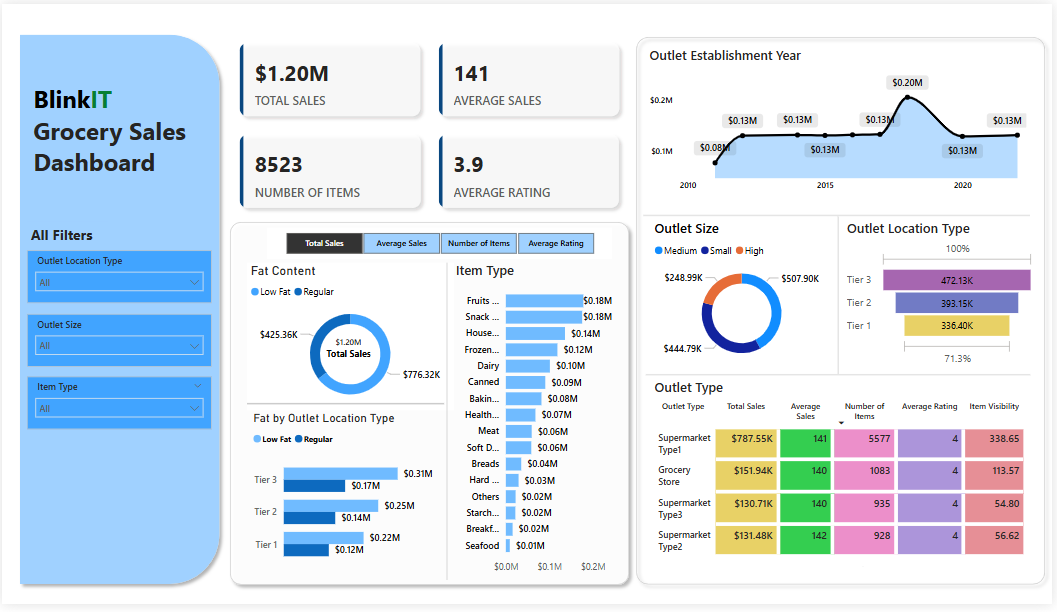

The dashboard page shown, as its layout file describes it:
{"tool":"powerbi","page":{"name":"Page 1","canvas":[1400,800],"ordinal":0},"visuals":[{"type":"shape","box":[15.7,31.4,284.3,751.4],"z":0},{"type":"textbox","box":[36.7,81.7,246.7,165],"z":1000},{"type":"cardVisual","fields":{"Data":["BlinkIT Grocery Data.Total Sales","BlinkIT Grocery Data.Average Sales","BlinkIT Grocery Data.Number of Items","BlinkIT Grocery Data.Average Rating"]},"box":[300,35,540,255],"z":2000},{"type":"shape","box":[295,281.7,550,501.7],"z":3000},{"type":"donutChart","title":"Fat Content","fields":{"Y":["BlinkIT Grocery Data.Total Sales"],"Category":["BlinkIT Grocery Data.Item Fat Content"]},"box":[327.1,344.3,275.7,197.1],"z":4000},{"type":"slicer","fields":{"Values":["Metrics.Metrics"]},"box":[353.3,298.3,460,41.7],"z":5000},{"type":"cardVisual","fields":{"Data":["BlinkIT Grocery Data.Total Sales"]},"box":[385.7,420,154.3,78.6],"z":6000},{"type":"clusteredBarChart","title":"Fat by Outlet Location Type","fields":{"Y":["BlinkIT Grocery Data.Total Sales"],"Category":["BlinkIT Grocery Data.Outlet Location Type"],"Series":["BlinkIT Grocery Data.Item Fat Content"]},"box":[330,542.9,250,217.1],"z":7000},{"type":"shape","box":[327.1,404.3,262.9,255.7],"z":8000},{"type":"barChart","title":"Item Type","fields":{"Y":["BlinkIT Grocery Data.Total Sales"],"Category":["BlinkIT Grocery Data.Item Type"]},"box":[600,342.9,235.7,425.7],"z":10000},{"type":"lineChart","title":"Outlet Establishment Year","fields":{"Category":["BlinkIT Grocery Data.Outlet Establishment Year"],"Y":["BlinkIT Grocery Data.Total Sales"]},"box":[858.6,57.1,512.9,202.9],"z":11000},{"type":"donutChart","title":"Outlet Size","fields":{"Y":["BlinkIT Grocery Data.Total Sales"],"Category":["BlinkIT Grocery Data.Outlet Size"]},"box":[865.7,287.1,242.9,201.4],"z":12000},{"type":"shape","box":[858.6,390,512.9,208.6],"z":13000},{"type":"shape","box":[896.7,541.7,503.3,208.3],"z":14000},{"type":"shape","box":[855.7,178.6,515.7,207.1],"z":15000},{"type":"funnel","title":"Outlet Location Type","fields":{"Category":["BlinkIT Grocery Data.Outlet Location Type"],"Y":["Sum(BlinkIT Grocery Data.Sales)"]},"box":[1121.4,287.1,260,201.4],"z":16000},{"type":"pivotTable","title":"Outlet Type","fields":{"Rows":["BlinkIT Grocery Data.Outlet Type"],"Values":["BlinkIT Grocery Data.Total Sales","BlinkIT Grocery Data.Average Sales","BlinkIT Grocery Data.Number of Items","BlinkIT Grocery Data.Average Rating","Sum(BlinkIT Grocery Data.Item Visibility)"]},"box":[865.7,498.6,505.7,251.4],"z":17000},{"type":"slicer","fields":{"Values":["BlinkIT Grocery Data.Outlet Location Type"]},"box":[33.8,327.5,246.2,70],"z":18000},{"type":"slicer","fields":{"Values":["BlinkIT Grocery Data.Outlet Size"]},"box":[33.8,412.5,246.2,70],"z":19000},{"type":"slicer","fields":{"Values":["BlinkIT Grocery Data.Item Type"]},"box":[33.8,496.2,246.2,70],"z":20000},{"type":"shape","box":[836.7,35,563.3,748.3],"z":21000},{"type":"shape","box":[964.3,282.9,300,210],"z":22000},{"type":"shape","box":[442.9,345.7,300,422.9],"z":23000},{"type":"textbox","box":[33.3,290,108.3,35],"z":24000}]}

Visuals, with their boxes in screenshot pixels (x1, y1, x2, y2), scaled from the page's 1400x800 canvas onto the 1057x612 screenshot:
shape: 12, 24, 226, 599
textbox: 28, 63, 214, 189
cardVisual - BlinkIT Grocery Data.Total Sales x BlinkIT Grocery Data.Average Sales: 226, 27, 634, 222
shape: 223, 216, 638, 599
"Fat Content" donutChart: 247, 263, 455, 414
slicer - Metrics.Metrics: 267, 228, 614, 260
cardVisual - BlinkIT Grocery Data.Total Sales: 291, 321, 408, 381
"Fat by Outlet Location Type" clusteredBarChart: 249, 415, 438, 581
shape: 247, 309, 445, 505
"Item Type" barChart: 453, 262, 631, 588
"Outlet Establishment Year" lineChart: 648, 44, 1035, 199
"Outlet Size" donutChart: 654, 220, 837, 374
shape: 648, 298, 1035, 458
shape: 677, 414, 1056, 574
shape: 646, 137, 1035, 295
"Outlet Location Type" funnel: 847, 220, 1043, 374
"Outlet Type" pivotTable: 654, 381, 1035, 574
slicer - BlinkIT Grocery Data.Outlet Location Type: 26, 251, 211, 304
slicer - BlinkIT Grocery Data.Outlet Size: 26, 316, 211, 369
slicer - BlinkIT Grocery Data.Item Type: 26, 380, 211, 433
shape: 632, 27, 1056, 599
shape: 728, 216, 955, 377
shape: 334, 264, 561, 588
textbox: 25, 222, 107, 249
